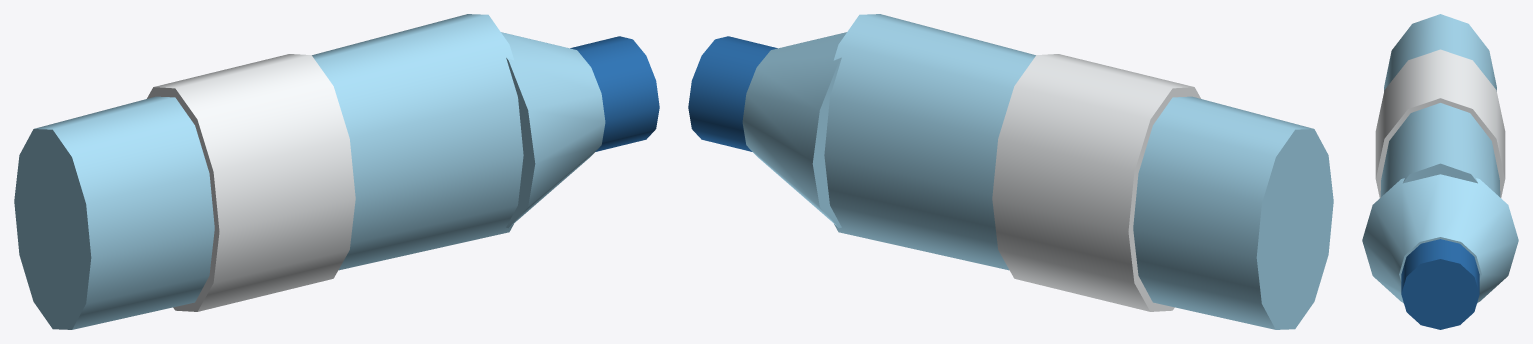
File: waste_bottle.fbx
The picture shows the model from 3 angles, left to right: view 1: azimuth 30°, elevation 25°; view 2: azimuth 150°, elevation 25°; view 3: azimuth 270°, elevation 25°; orthographic projection. The views are drawn at different scales.
Parts seen in each view (by area): view 1: M__waste_bottle; view 2: M__waste_bottle; view 3: M__waste_bottle.
Part boxes in pixels (x1,y1,x2,y2): M__waste_bottle: (14, 14, 659, 329); M__waste_bottle: (688, 14, 1333, 329); M__waste_bottle: (1362, 14, 1518, 329).
Bounding box in the file's own units: 0.213 × 0.078 × 0.068.
